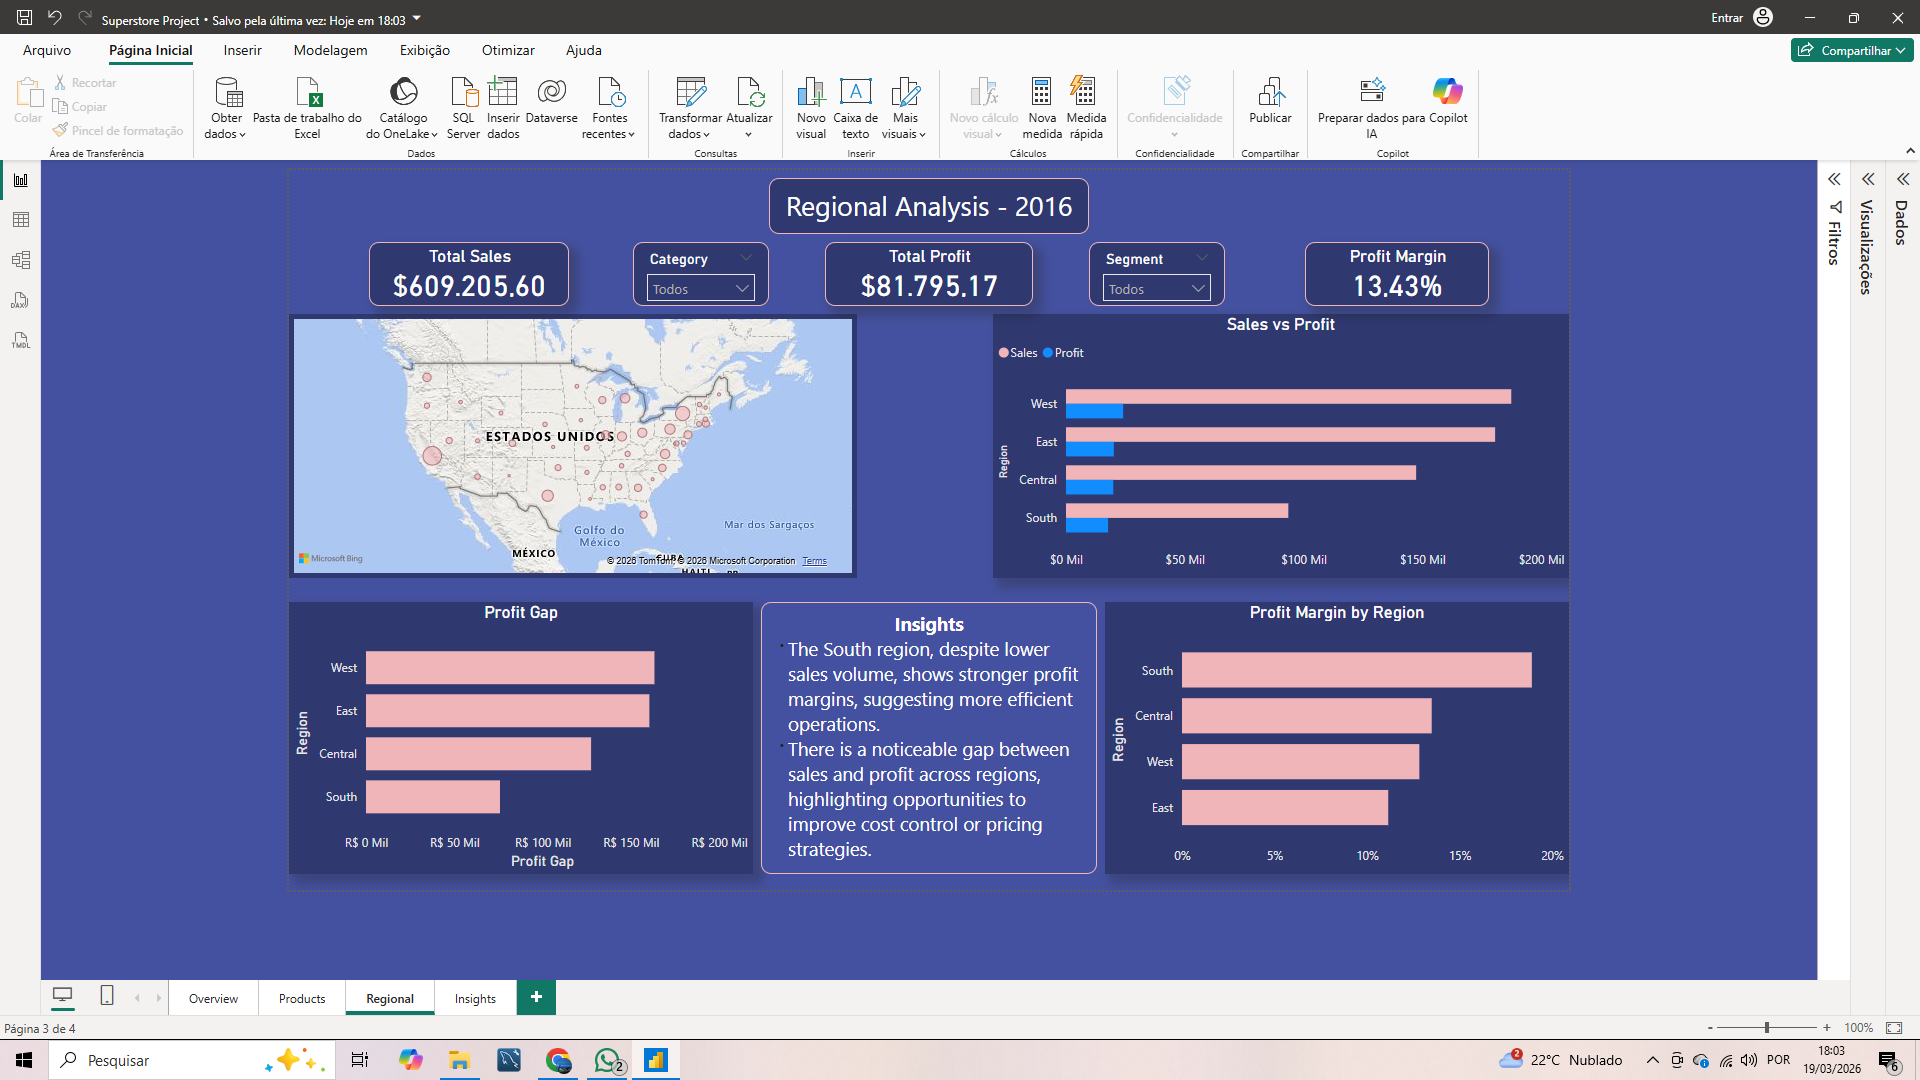

The page's visual inventory and layout, read from the dashboard file:
{"tool":"powerbi","page":{"name":"Regional","canvas":[1280,720],"ordinal":2},"visuals":[{"type":"textbox","box":[480,8,320,56],"z":0},{"type":"card","title":"Total Sales","fields":{"Values":["Sample - Superstore.Total Sales"]},"box":[80,71.8,200,64],"z":1000},{"type":"card","title":"Total Profit","fields":{"Values":["Sample - Superstore.Total Profit"]},"box":[536,71.8,208,64],"z":2000},{"type":"card","title":"Profit Margin","fields":{"Values":["Sample - Superstore.Profit Margin"]},"box":[1016,71.8,184,64],"z":3000},{"type":"map","fields":{"Category":["Sample - Superstore.State"],"Size":["Sum(Sample - Superstore.Sales)"]},"box":[0,144,568,264],"z":4000},{"type":"clusteredBarChart","title":"Sales vs Profit","fields":{"Category":["Sample - Superstore.Region"],"Y":["Sum(Sample - Superstore.Sales)","Sum(Sample - Superstore.Profit)"]},"box":[704,144,576,264],"z":5000},{"type":"clusteredBarChart","title":"Profit Margin by Region","fields":{"Category":["Sample - Superstore.Region"],"Y":["Sample - Superstore.Profit Margin"]},"box":[816,432,464,248],"z":6000},{"type":"slicer","fields":{"Values":["Sample - Superstore.Category"]},"box":[344,72,136,64],"z":7000},{"type":"clusteredBarChart","title":"Profit Gap","fields":{"Category":["Sample - Superstore.Region"],"Y":["Sample - Superstore.Profit Gap"]},"box":[0,432,464,248],"z":8000},{"type":"slicer","fields":{"Values":["Sample - Superstore.Segment"]},"box":[800,72,136,64],"z":9000},{"type":"textbox","box":[472,432,336,272],"z":9001}]}

Visuals, with their boxes on the page's 1280x720 design canvas (x1, y1, x2, y2). These are canvas units, not pixel positions in the 1920x1080 screenshot, which may show the page scaled, cropped or inside an application window:
textbox: region(480, 8, 800, 64)
"Total Sales" card: region(80, 72, 280, 136)
"Total Profit" card: region(536, 72, 744, 136)
"Profit Margin" card: region(1016, 72, 1200, 136)
map - Sample - Superstore.State x Sum(Sample - Superstore.Sales): region(0, 144, 568, 408)
"Sales vs Profit" clusteredBarChart: region(704, 144, 1280, 408)
"Profit Margin by Region" clusteredBarChart: region(816, 432, 1280, 680)
slicer - Sample - Superstore.Category: region(344, 72, 480, 136)
"Profit Gap" clusteredBarChart: region(0, 432, 464, 680)
slicer - Sample - Superstore.Segment: region(800, 72, 936, 136)
textbox: region(472, 432, 808, 704)
